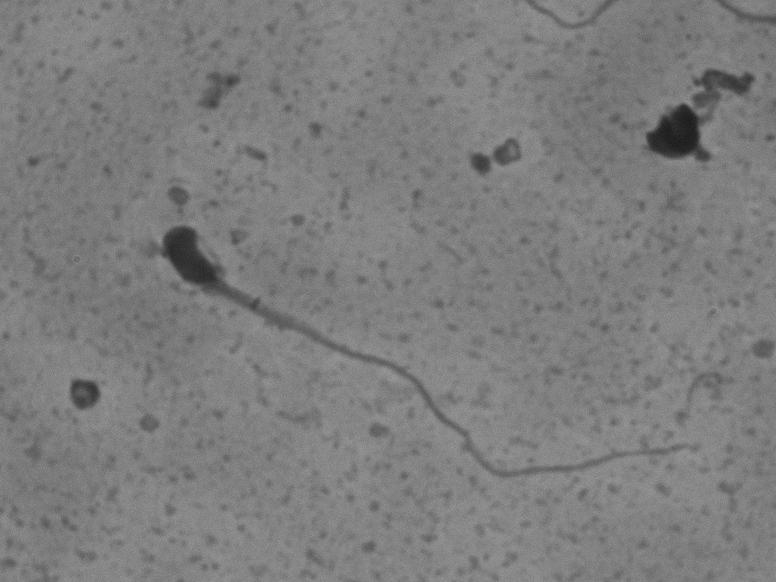Abnormal: (148, 170, 713, 502)
